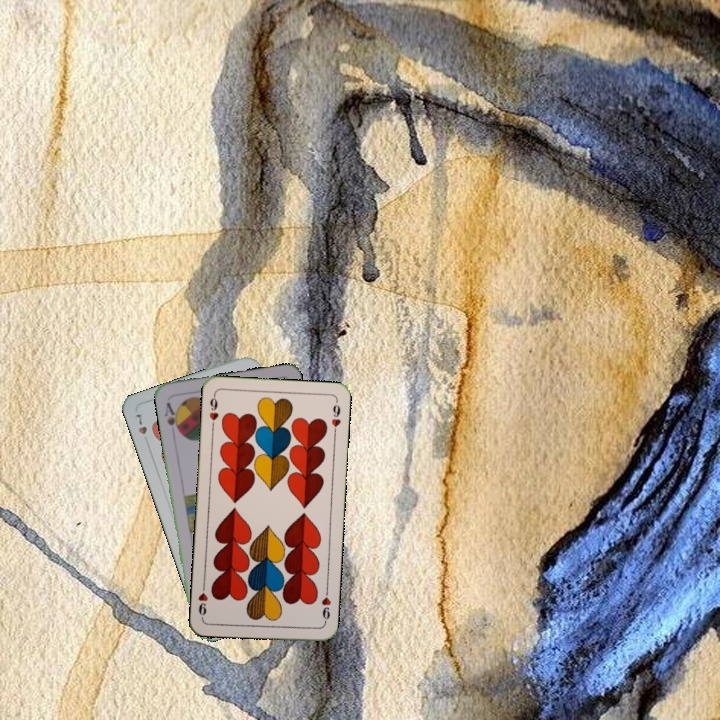H7: (131, 410, 152, 448)
H9: (205, 391, 221, 431), (317, 586, 333, 626)
SA: (160, 398, 183, 436)
